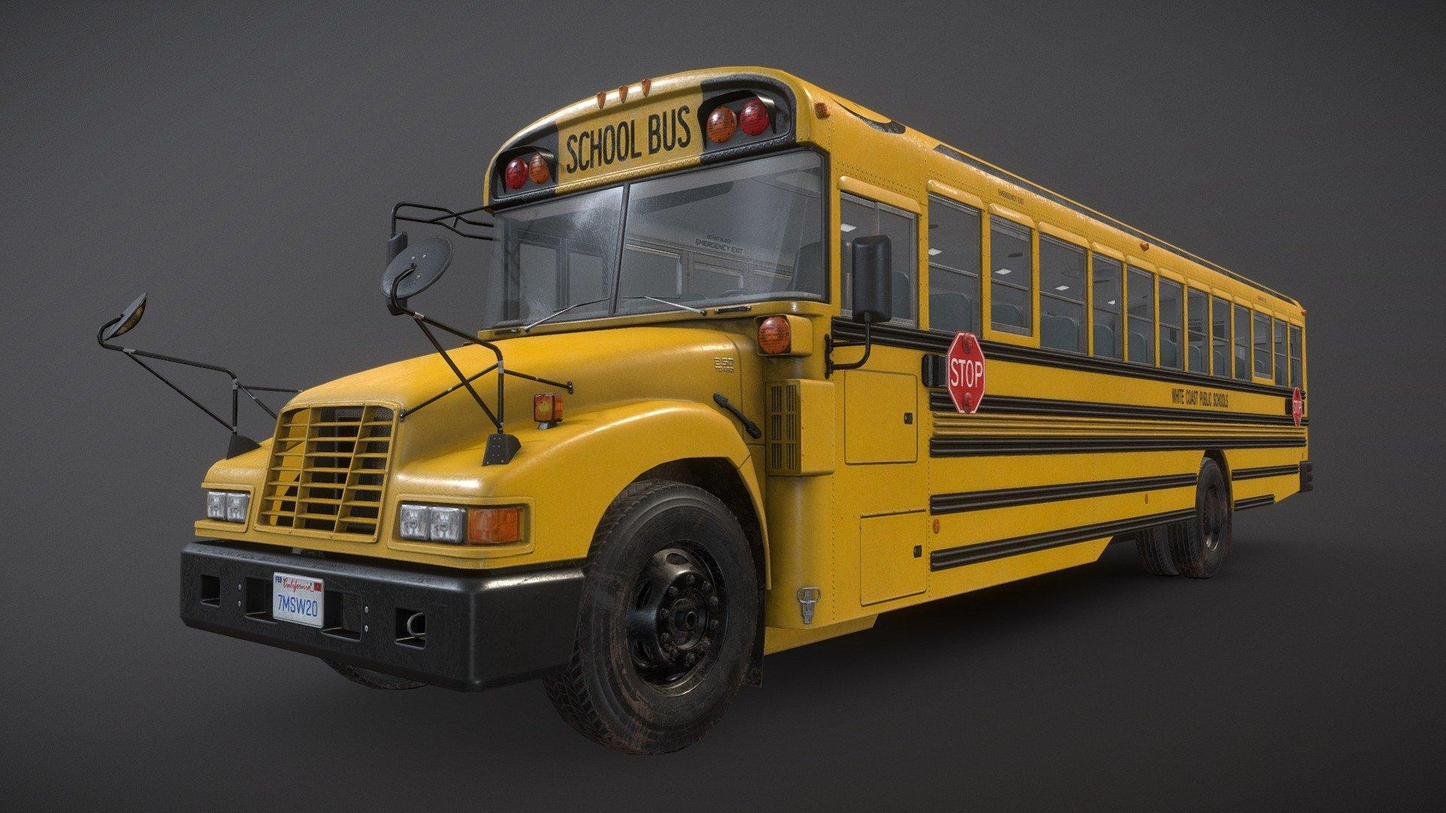Bus: (175, 66, 1314, 760)
